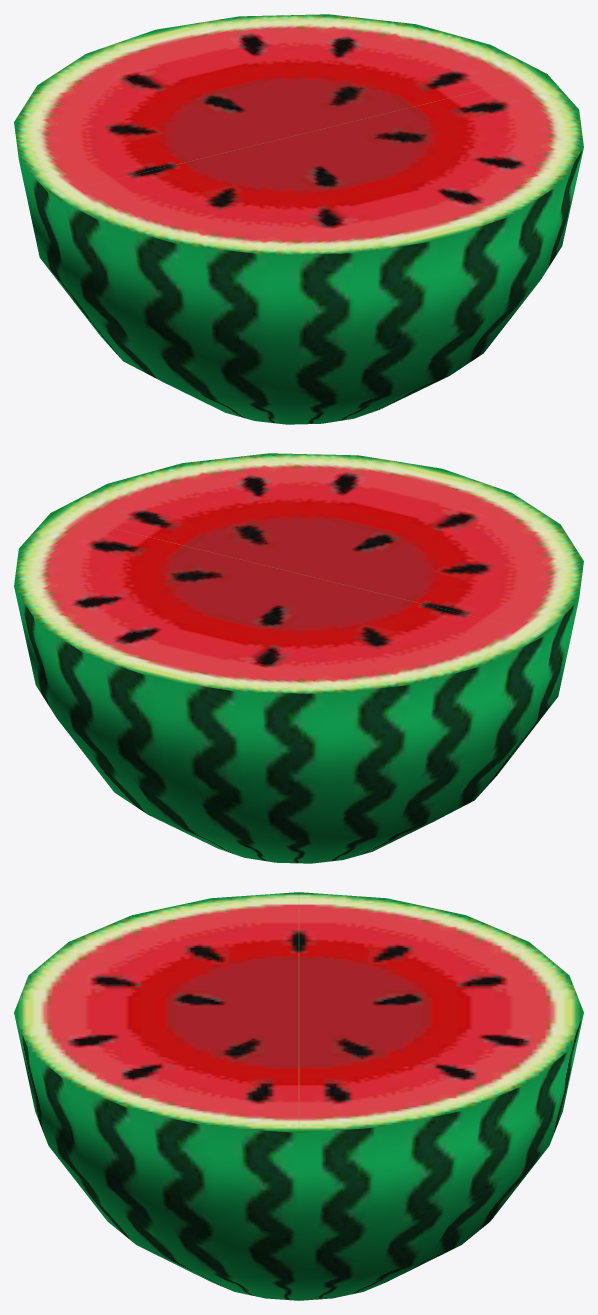
Rendered from rmk_wtm_tableL.dae.
3 views of the same model, one above another, from view 1: azimuth 30°, elevation 25°; view 2: azimuth 150°, elevation 25°; view 3: azimuth 270°, elevation 25° (orthographic).
Visible parts, largest first — view 1: rmk_wtm_tableL; view 2: rmk_wtm_tableL; view 3: rmk_wtm_tableL.
Boxes of the visible parts, x1=… form: rmk_wtm_tableL: x1=14, y1=14, x2=583, y2=424; rmk_wtm_tableL: x1=14, y1=453, x2=583, y2=863; rmk_wtm_tableL: x1=14, y1=892, x2=583, y2=1300.
Size of the model in its own units: 51.2 by 24 by 51.2.
Materials: 1 (1 with a texture image).
